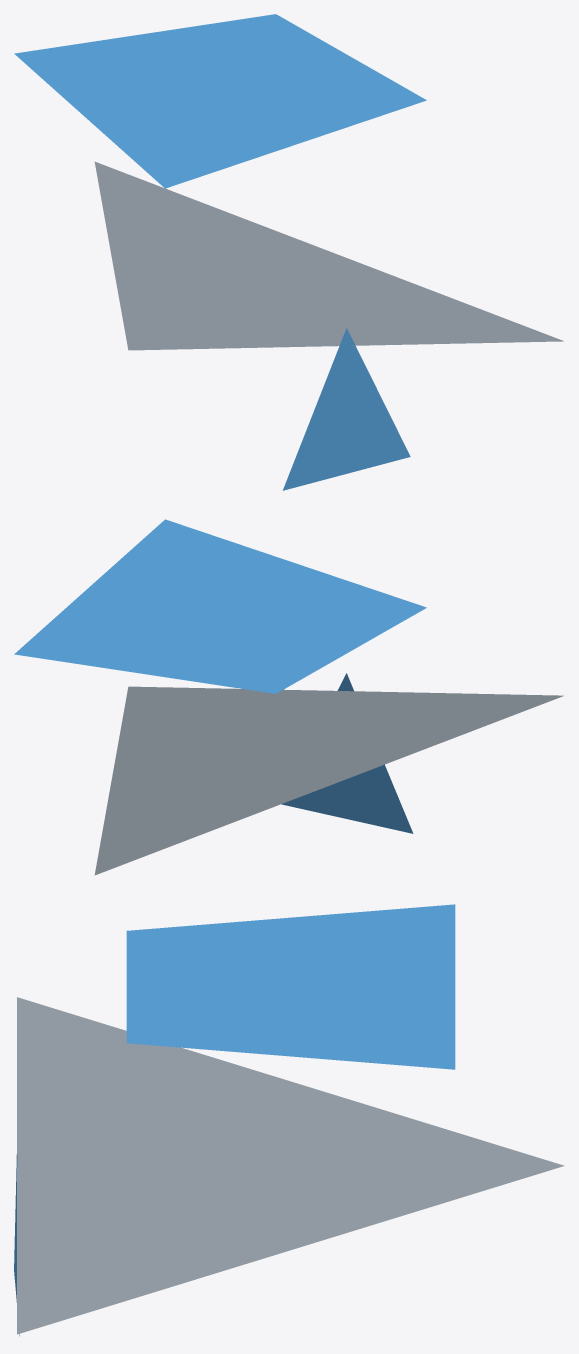
Rendered from AL_PowerPlant_LOD2.glb.
The picture shows the model from 3 angles, top to bottom: view 1: azimuth 30°, elevation 25°; view 2: azimuth 150°, elevation 25°; view 3: azimuth 270°, elevation 25°; orthographic projection. The views are drawn at different scales.
Visible parts, largest first — view 1: EntranceGate; view 2: EntranceGate; view 3: EntranceGate.
Boxes of the visible parts, bbox=[...] form: EntranceGate: bbox=[14, 14, 563, 490]; EntranceGate: bbox=[14, 519, 563, 875]; EntranceGate: bbox=[14, 904, 564, 1336].
Size of the model in its own units: 600 by 400 by 603.
